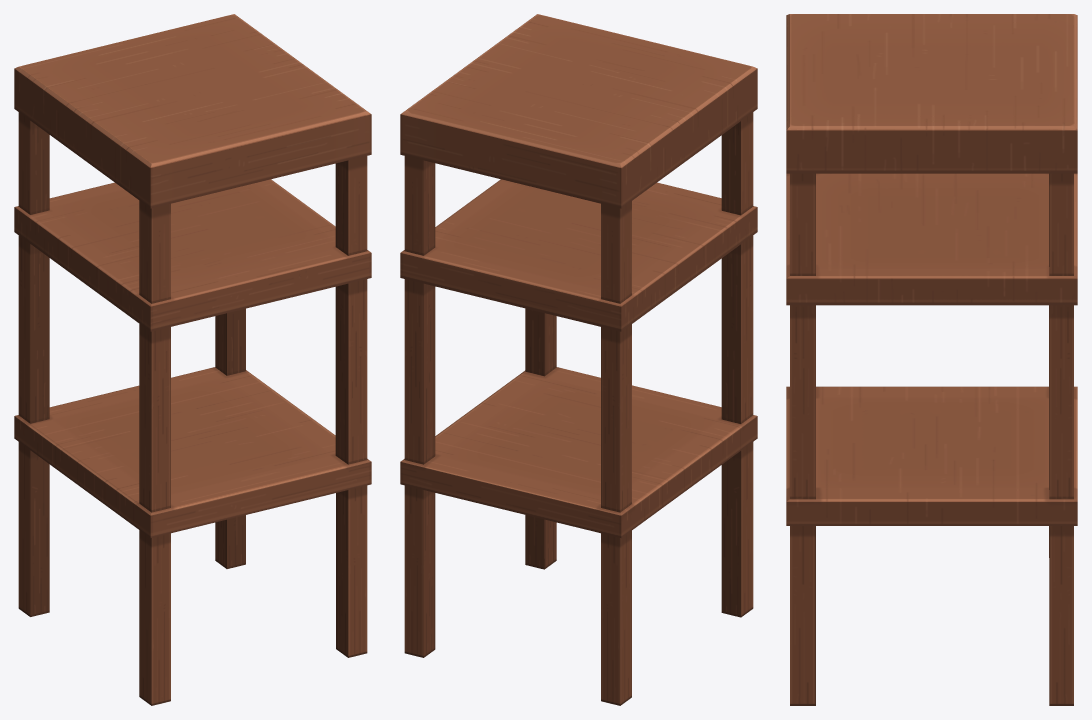
The model's file is bathroom_shelf.fbx.
The picture shows the model from 3 angles, left to right: view 1: azimuth 30°, elevation 25°; view 2: azimuth 150°, elevation 25°; view 3: azimuth 270°, elevation 25°; orthographic projection. The views are drawn at different scales.
Parts seen in each view (by area): view 1: bathroom_shelf; view 2: bathroom_shelf; view 3: bathroom_shelf.
Boxes of the visible parts, x1=… form: bathroom_shelf: x1=14, y1=14, x2=371, y2=705; bathroom_shelf: x1=400, y1=14, x2=757, y2=705; bathroom_shelf: x1=786, y1=14, x2=1077, y2=705.
Bounding box in the file's own units: 54.55 × 128 × 58.25.
